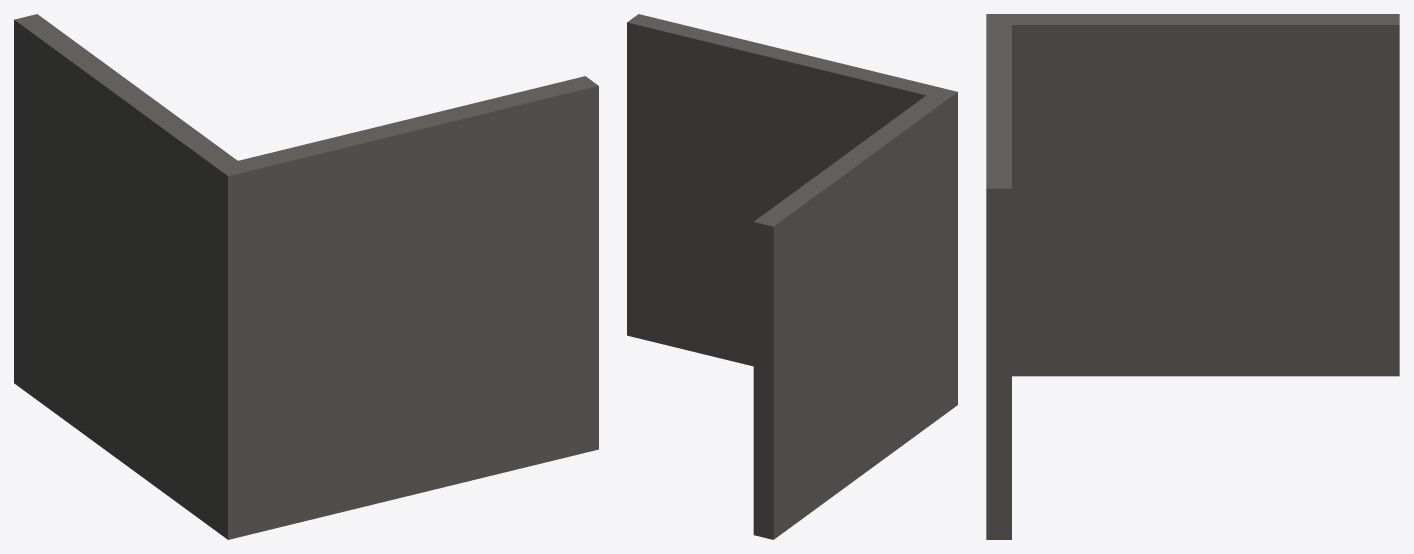
File: SM_Wall_Corner_Out.fbx
The picture shows the model from 3 angles, left to right: view 1: azimuth 30°, elevation 25°; view 2: azimuth 150°, elevation 25°; view 3: azimuth 270°, elevation 25°; orthographic projection. The views are drawn at different scales.
Parts seen in each view (by area): view 1: SM_Wall_Corner_Out; view 2: SM_Wall_Corner_Out; view 3: SM_Wall_Corner_Out.
Part boxes in pixels (box(x1,y1,x2,y2)): SM_Wall_Corner_Out: box(14, 14, 598, 539); SM_Wall_Corner_Out: box(627, 14, 957, 539); SM_Wall_Corner_Out: box(986, 14, 1399, 539).
Bounding box in the file's own units: 320 × 300 × 320.
